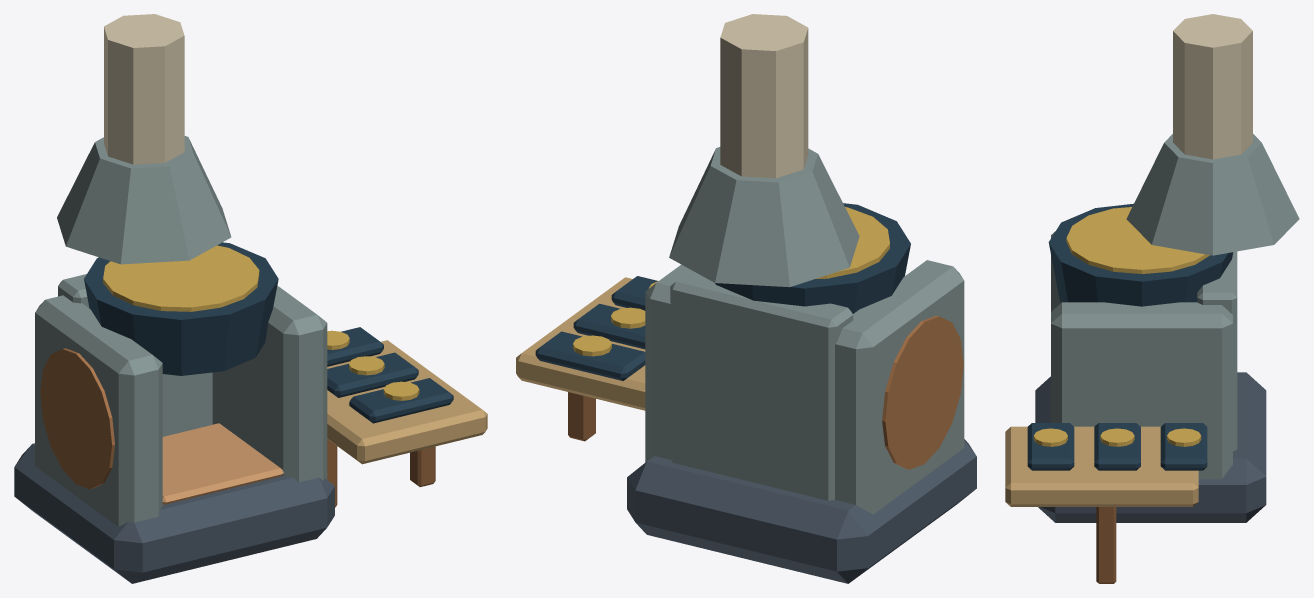
The model's file is gold_mint.glb.
The picture shows the model from 3 angles, left to right: view 1: azimuth 30°, elevation 25°; view 2: azimuth 150°, elevation 25°; view 3: azimuth 270°, elevation 25°; orthographic projection. The views are drawn at different scales.
Parts seen in each view (by area): view 1: hearth base, flywheel; view 2: hearth base, flywheel; view 3: hearth base.
Part boxes in pixels (box(x1,y1,x2,y2)): hearth base: box(14, 14, 487, 583); flywheel: box(40, 348, 114, 489); hearth base: box(516, 14, 976, 583); flywheel: box(882, 315, 963, 469); hearth base: box(1005, 14, 1299, 583).
Bounding box in the file's own units: 1.74 × 2.24 × 1.32.
